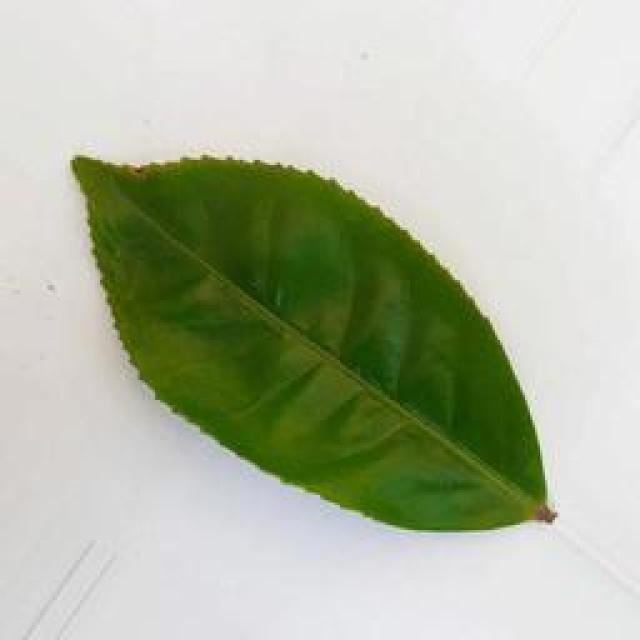Healthy: (62, 150, 559, 526)
